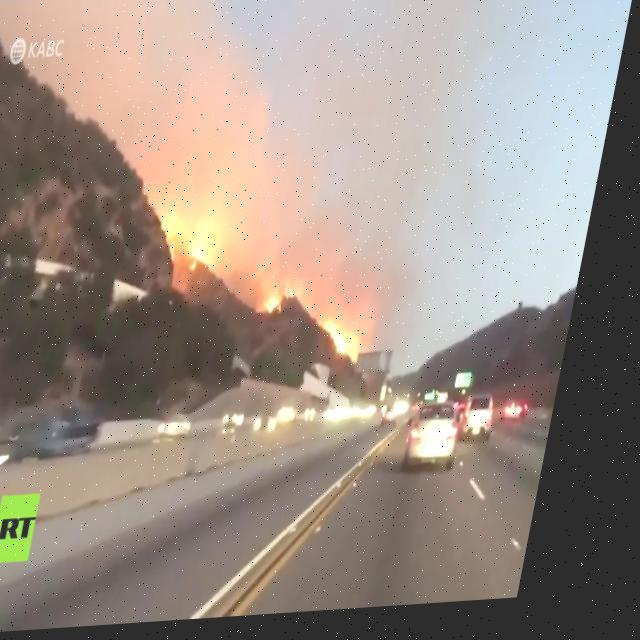Fire: (161, 212, 231, 277), (333, 318, 381, 374), (273, 284, 311, 324)
